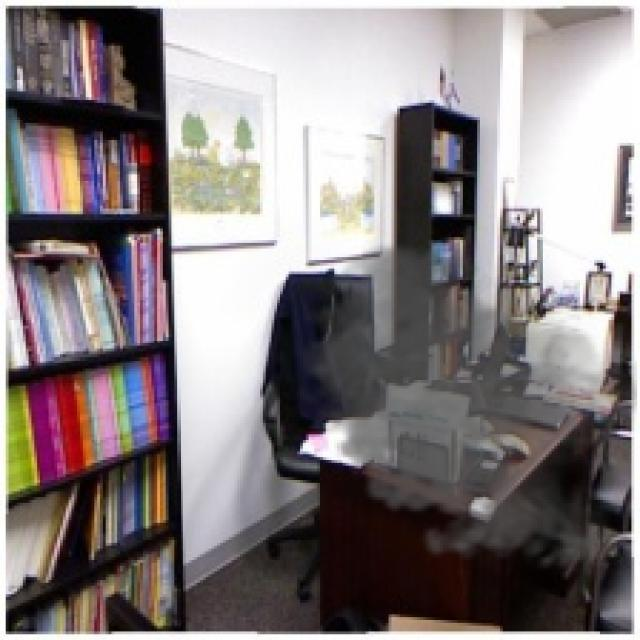Smoke: (286, 237, 638, 580)
